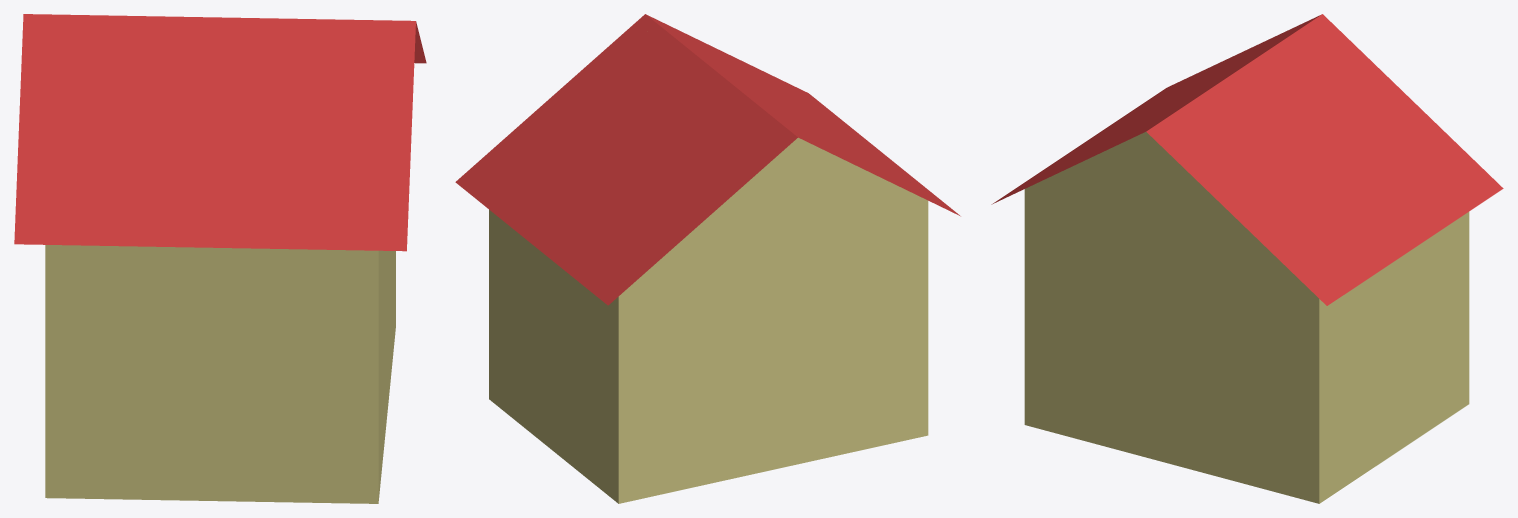
3 views of the same model, side by side, from view 1: azimuth 30°, elevation 25°; view 2: azimuth 150°, elevation 25°; view 3: azimuth 270°, elevation 25° (orthographic). The views are drawn at different scales.
Visible parts, largest first — view 1: group_5, group_3, group_4; view 2: group_5, group_3, group_4; view 3: group_5, group_3, group_4.
Boxes of the visible parts, x1=… form: group_5: x1=45, y1=245, x2=395, y2=503; group_3: x1=14, y1=14, x2=415, y2=251; group_4: x1=14, y1=14, x2=426, y2=251; group_5: x1=489, y1=137, x2=928, y2=503; group_3: x1=455, y1=14, x2=927, y2=305; group_4: x1=585, y1=14, x2=960, y2=216; group_5: x1=1024, y1=132, x2=1469, y2=503; group_3: x1=991, y1=14, x2=1503, y2=305; group_4: x1=996, y1=14, x2=1322, y2=201.
Bounding box in the file's own units: 19.79 × 20.64 × 15.02.
